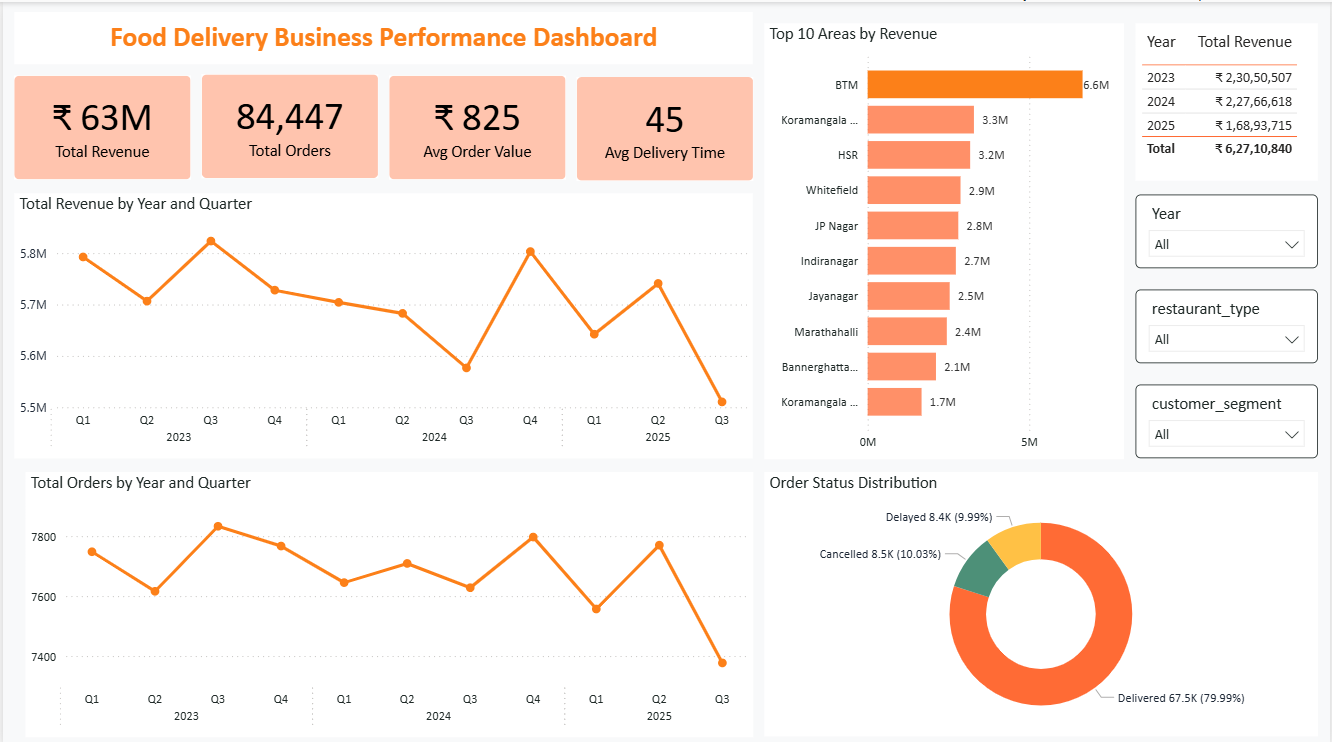

What the dashboard file says about the page in this screenshot:
{"tool":"powerbi","page":{"name":"Executive Overview","canvas":[1280,720],"ordinal":0},"visuals":[{"type":"textbox","box":[10.9,9.7,713,50.7],"z":0},{"type":"cardVisual","fields":{"Data":["Measure.Total Revenue"]},"box":[10.9,71.2,170,100],"z":1000},{"type":"cardVisual","fields":{"Data":["Measure.Total Orders"]},"box":[191.7,70,170.1,100.1],"z":2000},{"type":"cardVisual","fields":{"Data":["Measure.Avg Order Value"]},"box":[372.7,71.2,170.1,100.1],"z":3000},{"type":"cardVisual","fields":{"Data":["Measure.Avg Delivery Time"]},"box":[553.7,72.4,170.1,100.1],"z":4000},{"type":"barChart","title":"Top 10 Areas by Revenue","fields":{"Y":["Measure.Total Revenue"],"Category":["customers.city"]},"box":[734.7,20.5,347.5,421],"z":5000},{"type":"donutChart","title":"Order Status Distribution","fields":{"Category":["orders.order_status"],"Y":["CountNonNull(orders.order_id)"]},"box":[734.9,453.7,534.4,255.6],"z":6000},{"type":"lineChart","fields":{"Y":["Measure.Total Revenue"],"Category":["date.Date.Variation.Date Hierarchy.Year","date.Quarter"]},"box":[10.9,184.6,713,255.8],"z":7000},{"type":"lineChart","fields":{"Category":["date.Date.Variation.Date Hierarchy.Year","date.Quarter"],"Y":["Measure.Total Orders"]},"box":[21.7,453.6,702.1,255.8],"z":8000},{"type":"slicer","fields":{"Values":["customers.customer_segment"]},"box":[1093,369.2,176.1,71.2],"z":9000},{"type":"slicer","fields":{"Values":["restaurants.restaurant_type"]},"box":[1093,277.5,176.1,71.2],"z":10000},{"type":"slicer","fields":{"Values":["date.Year"]},"box":[1093,185.8,176.1,71.2],"z":12000},{"type":"tableEx","fields":{"Values":["date.Year","Measure.Total Revenue"]},"box":[1093,20.5,176.1,152],"z":12001}]}

Visuals, with their boxes in screenshot pixels (x1, y1, x2, y2), scaled from the page's 1280x720 canvas onto the 1332x742 screenshot:
textbox: BBox(11, 10, 753, 62)
cardVisual - Measure.Total Revenue: BBox(11, 73, 188, 176)
cardVisual - Measure.Total Orders: BBox(199, 72, 376, 175)
cardVisual - Measure.Avg Order Value: BBox(388, 73, 565, 177)
cardVisual - Measure.Avg Delivery Time: BBox(576, 75, 753, 178)
"Top 10 Areas by Revenue" barChart: BBox(765, 21, 1126, 455)
"Order Status Distribution" donutChart: BBox(765, 468, 1321, 731)
lineChart - Measure.Total Revenue x date.Date.Variation.Date Hierarchy.Year: BBox(11, 190, 753, 454)
lineChart - date.Date.Variation.Date Hierarchy.Year x date.Quarter: BBox(23, 467, 753, 731)
slicer - customers.customer_segment: BBox(1137, 380, 1321, 454)
slicer - restaurants.restaurant_type: BBox(1137, 286, 1321, 359)
slicer - date.Year: BBox(1137, 191, 1321, 265)
tableEx - date.Year x Measure.Total Revenue: BBox(1137, 21, 1321, 178)
